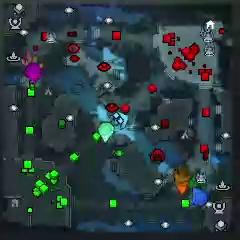p1: (192, 186, 208, 206)
p2: (97, 122, 115, 144)
p3: (25, 63, 41, 82)
p5: (174, 181, 189, 195)
x1: (20, 49, 32, 65)
x2: (26, 55, 45, 69)
x3: (114, 112, 129, 129)
x4: (189, 172, 205, 189)
x5: (173, 163, 191, 182)
